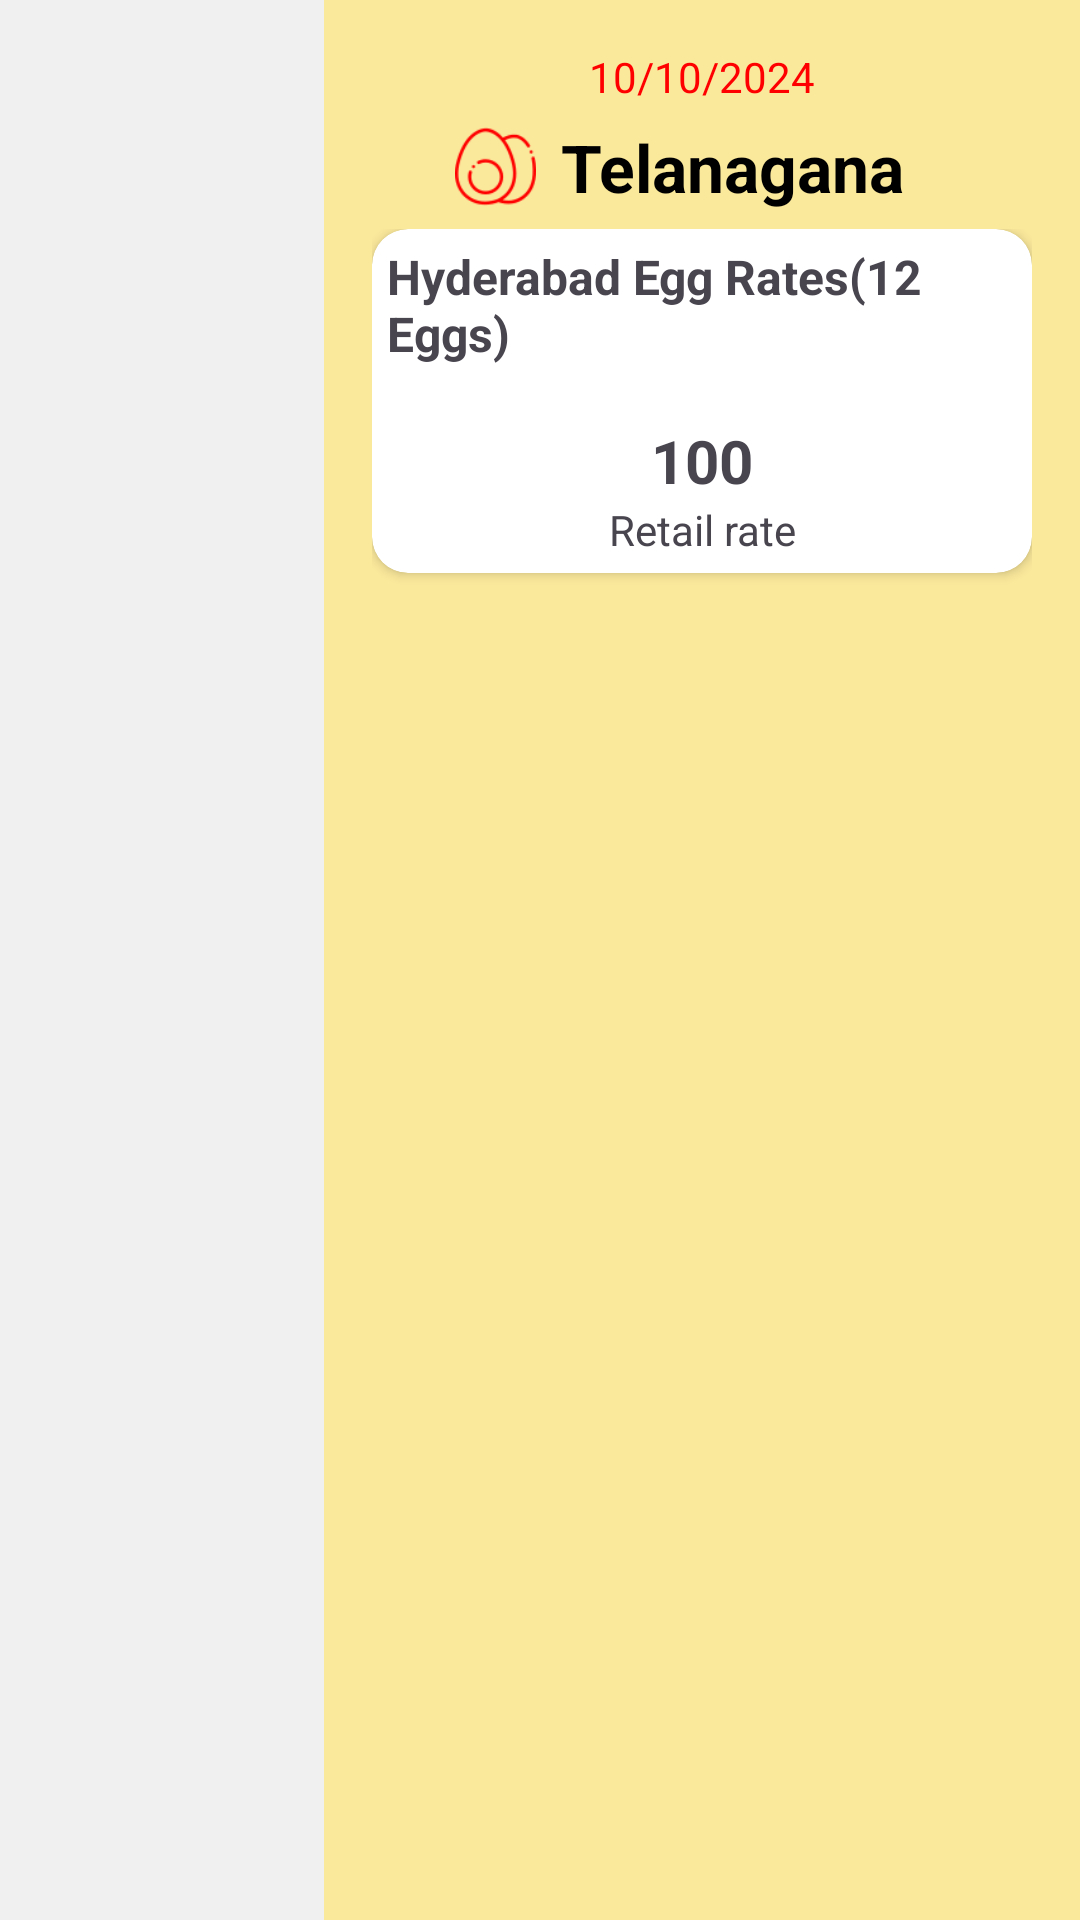

Icons on this 1080 x 1920 Android screen, each with the point to tap as (x=x, y=y):
egg rate side: (x=495, y=166)
